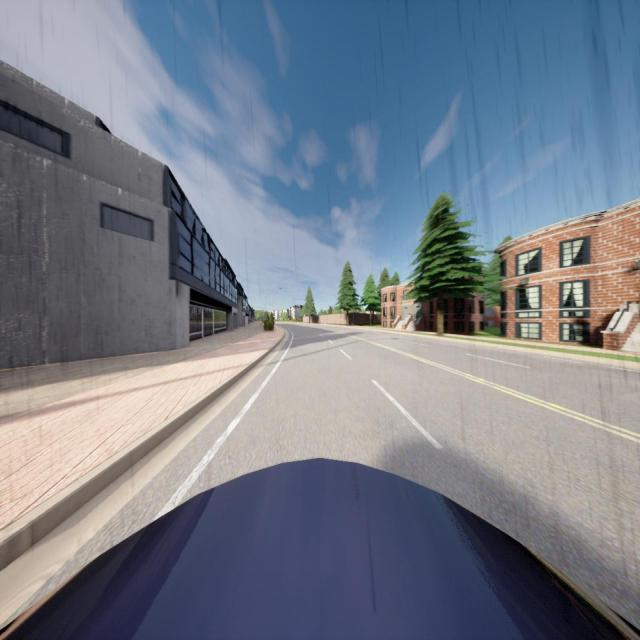Vehicle: (0, 456, 639, 640)
